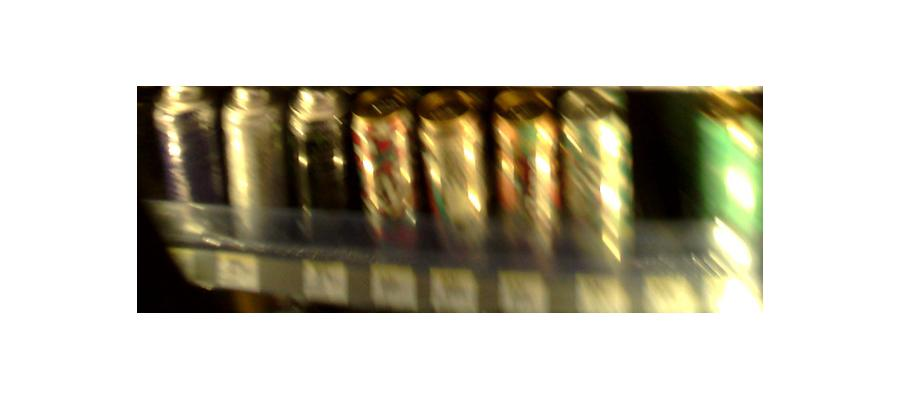bottle: (558, 89, 635, 286), (351, 89, 419, 253), (222, 87, 290, 245), (418, 104, 487, 257), (492, 97, 551, 261), (154, 83, 218, 233), (285, 90, 348, 235)
